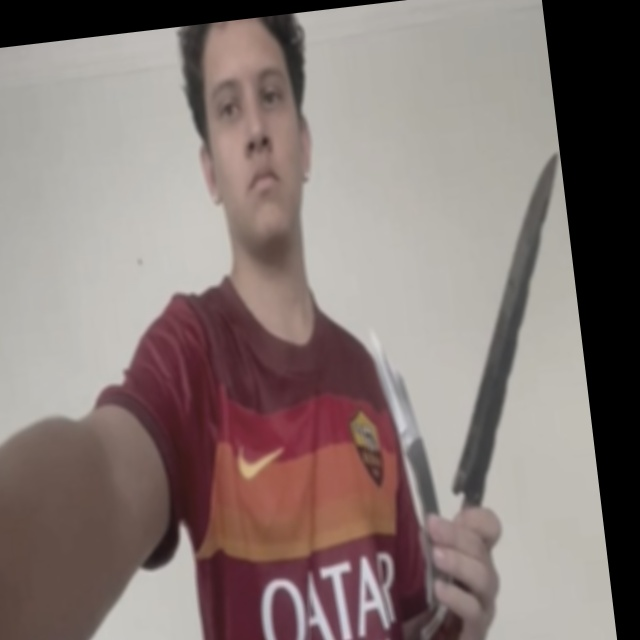Sharp-Object: (415, 149, 596, 495), (368, 324, 424, 451)
